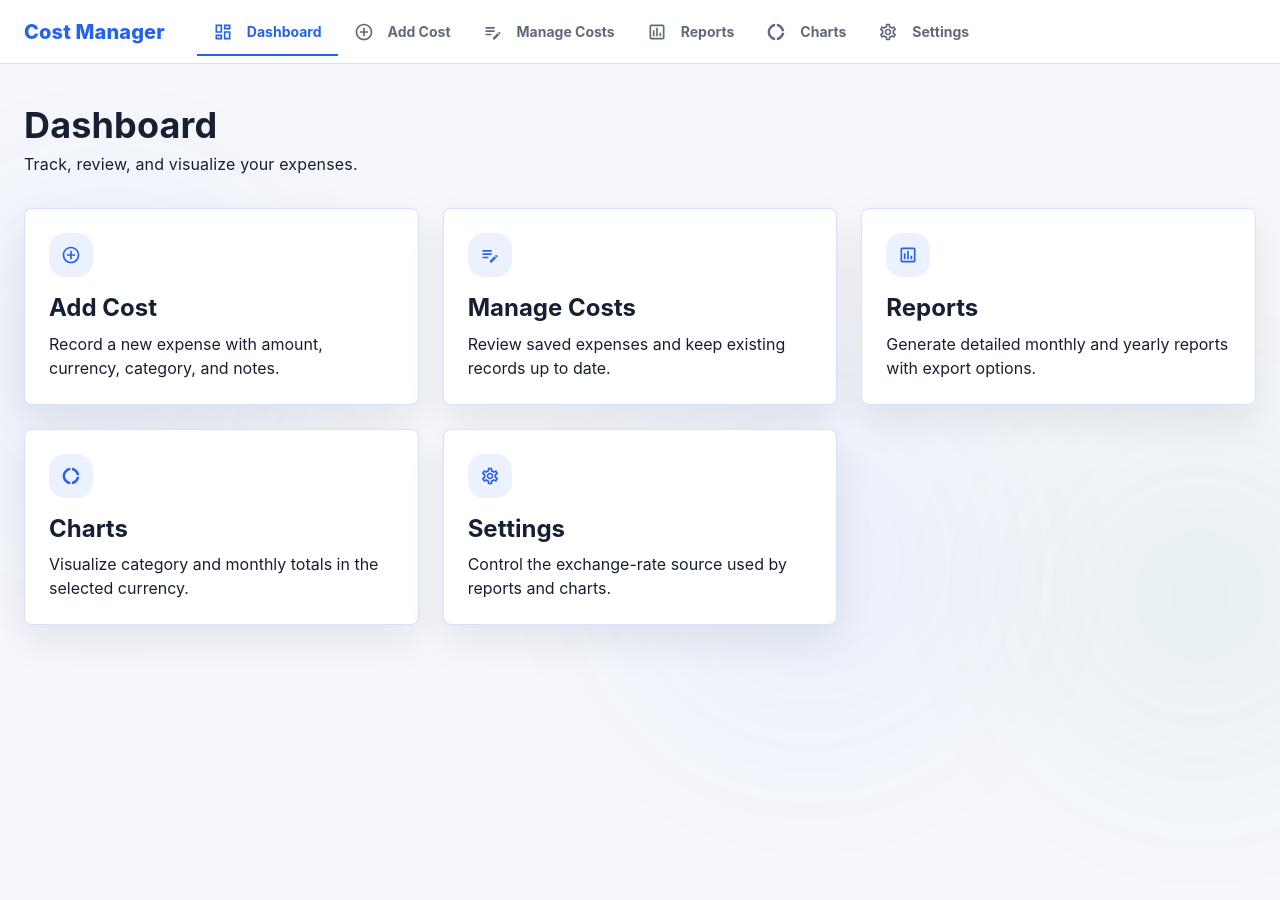
Scenario: App › switches to the Charts view without reloading
What coordinates should you click on to do the following:
click the tab "Charts"
I would click on:
 (806, 32)
Its box is [750,8,862,56].
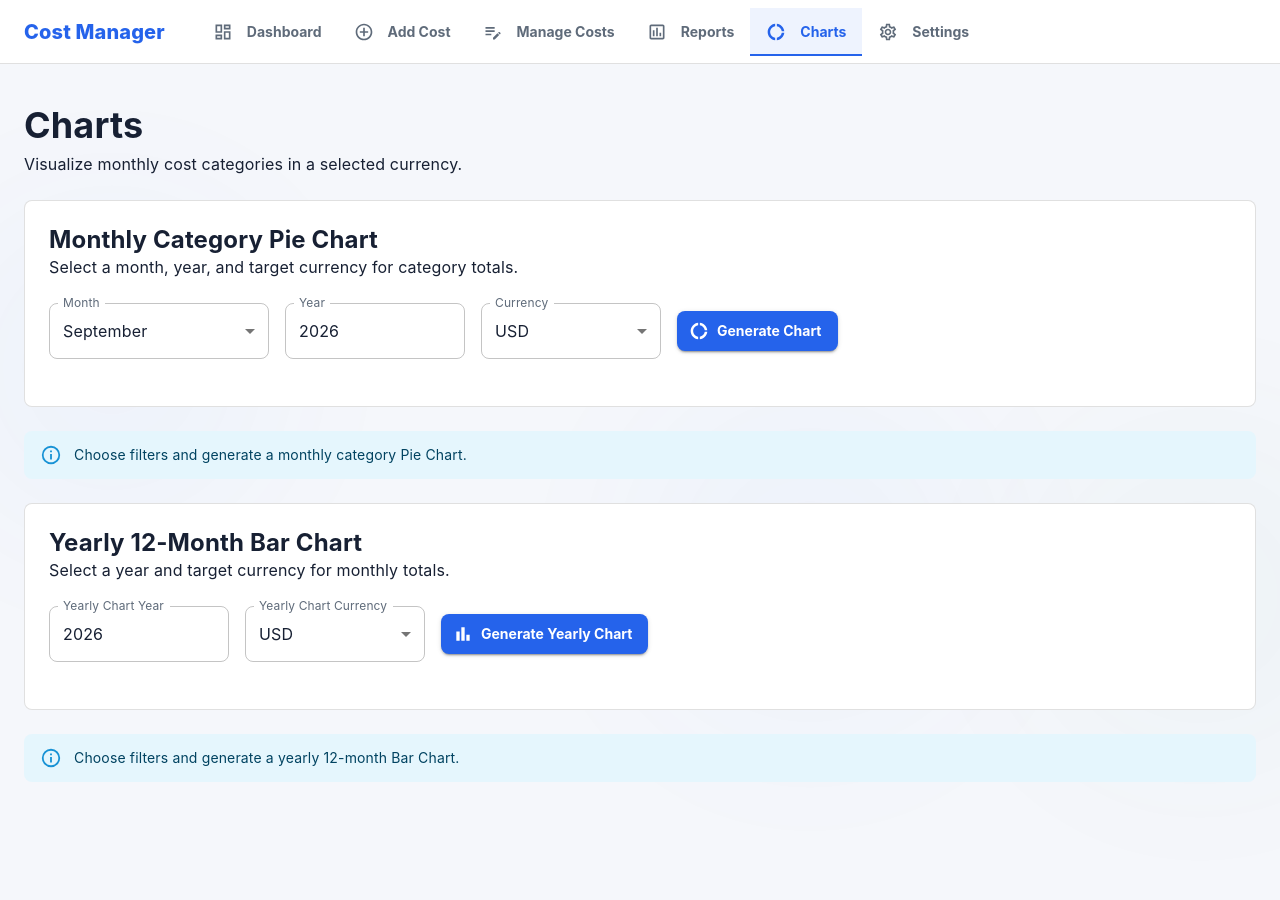
Result: the heading "Charts" is shown at [24,103,143,147]
Result: the heading "Monthly Category Pie Chart" is shown at [49,226,378,254]
Result: the heading "Yearly 12-Month Bar Chart" is shown at [49,528,362,557]
